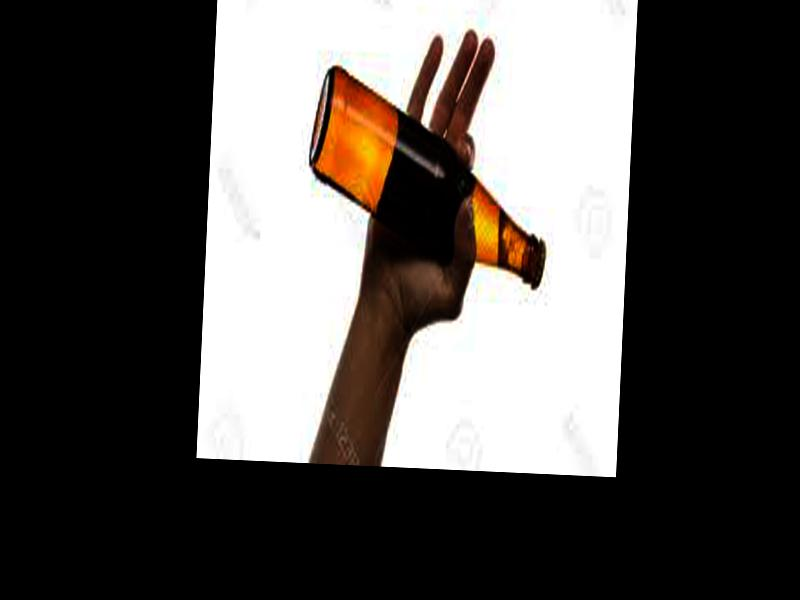Beer: (305, 71, 548, 284)
